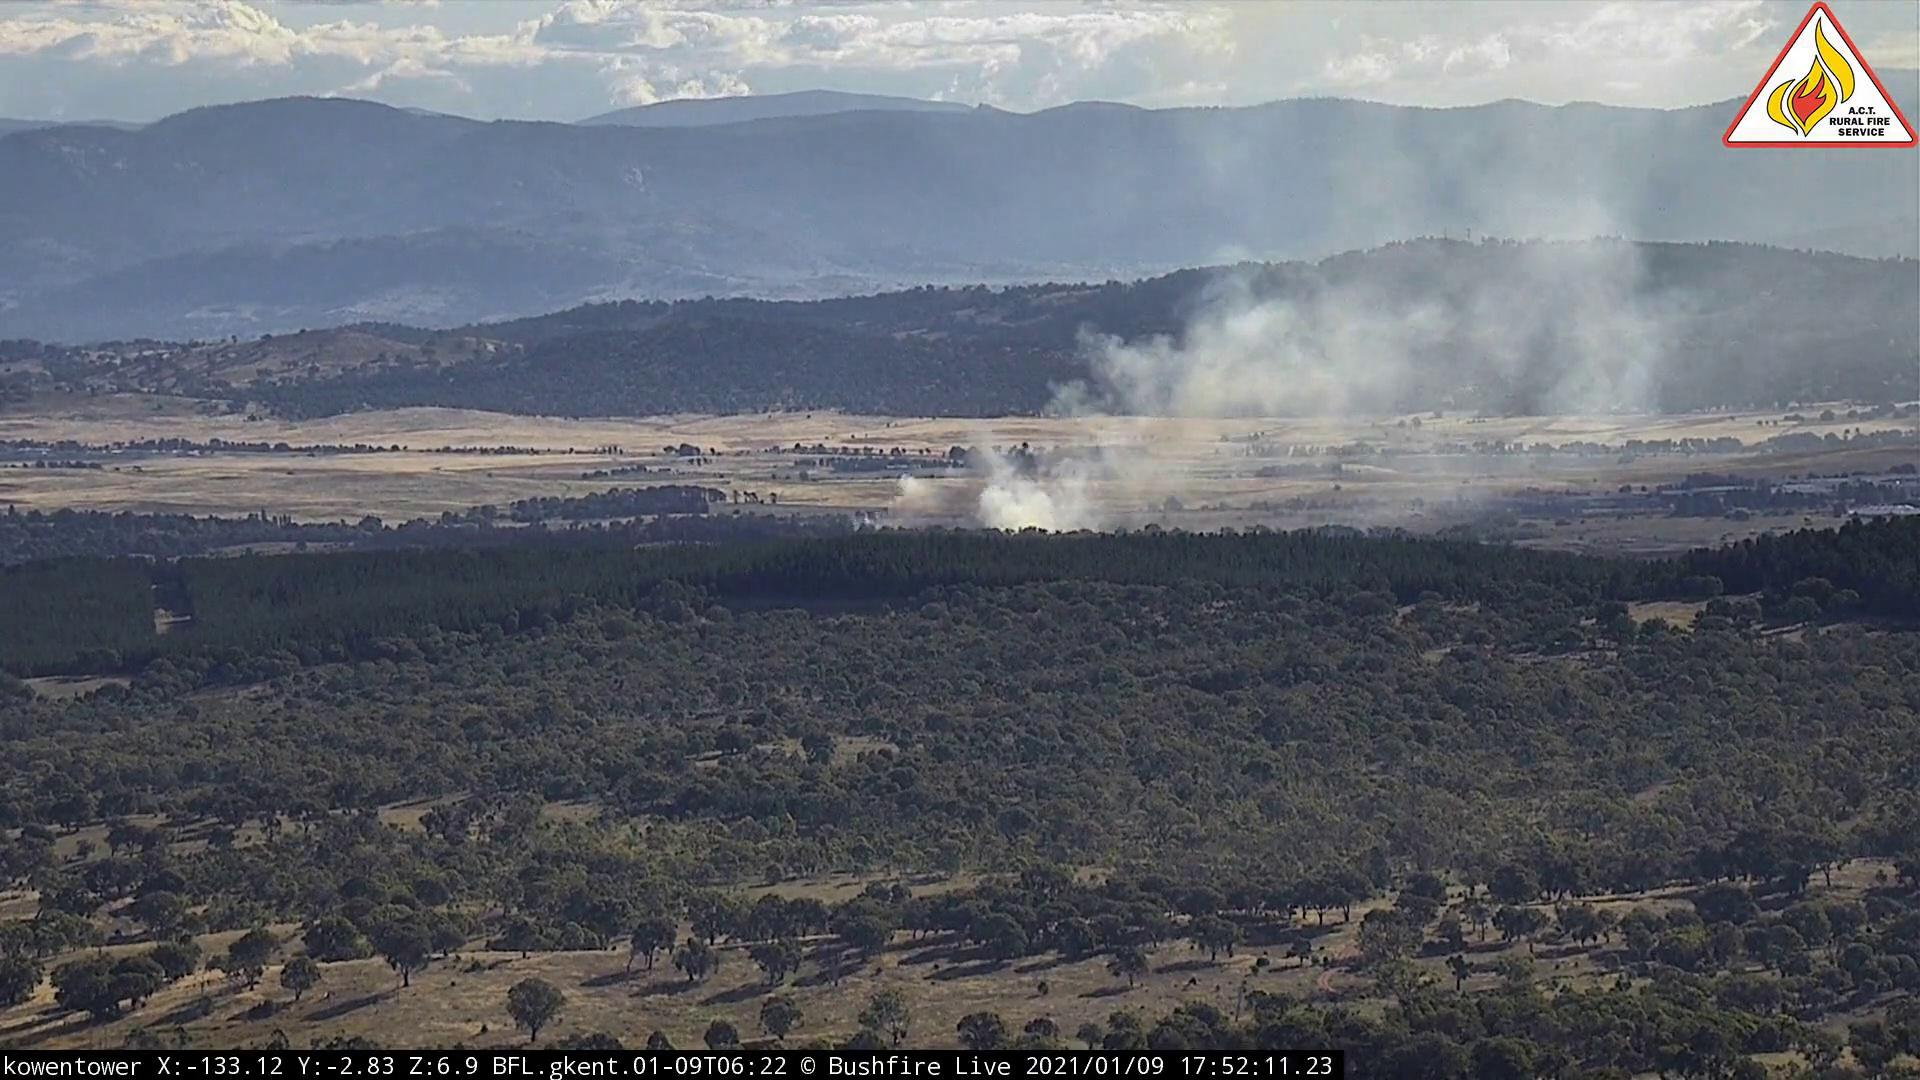Smoke: (864, 108, 1708, 541)
